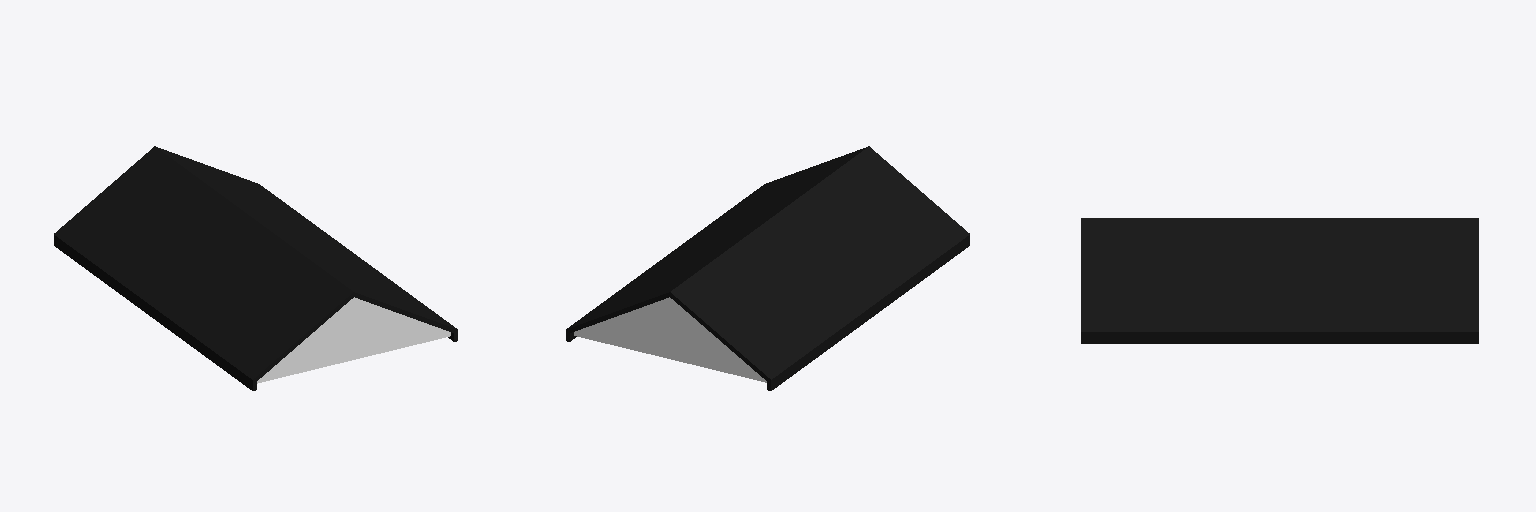
File: Roof3.obj
3 views of the same model, side by side, from view 1: azimuth 30°, elevation 25°; view 2: azimuth 150°, elevation 25°; view 3: azimuth 270°, elevation 25° (orthographic).
Visible parts, largest first — view 1: Roof3; view 2: Roof3; view 3: Roof3.
Part boxes in pixels (x1,y1,x2,y2): Roof3: (54, 146, 457, 390); Roof3: (566, 146, 969, 390); Roof3: (1081, 218, 1478, 343).
Bounding box in the file's own units: 7.4 × 2.56 × 12.4.